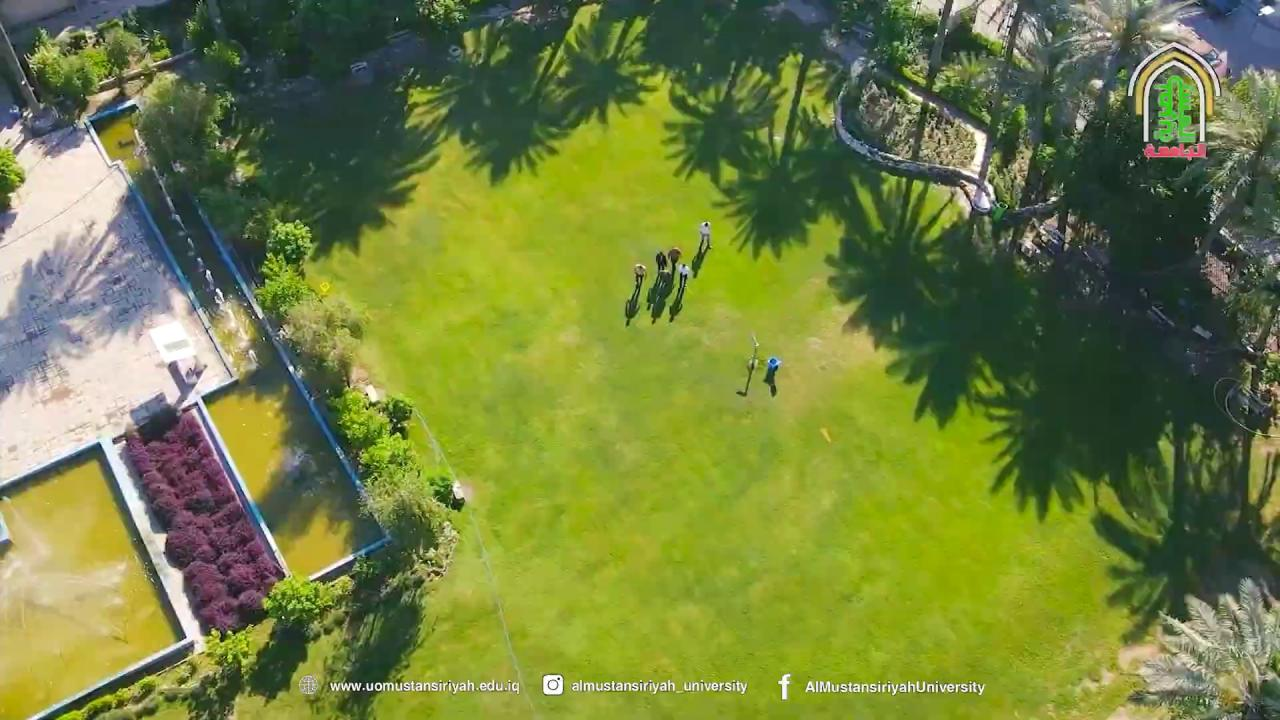fountain: (0, 438, 195, 717), (195, 345, 394, 584)
person: (762, 356, 781, 397), (655, 250, 669, 286), (698, 220, 711, 253), (678, 262, 689, 288)
tree: (1066, 0, 1182, 216), (1124, 576, 1279, 719), (1180, 70, 1280, 254), (1009, 0, 1102, 194), (22, 13, 173, 117), (132, 69, 248, 201), (205, 0, 403, 59), (264, 218, 313, 276), (0, 144, 25, 212)
